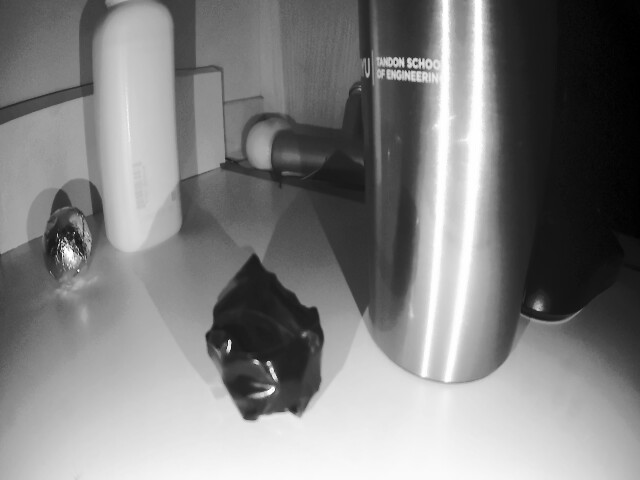black: (37, 207, 95, 295)
silver: (205, 272, 333, 419)
